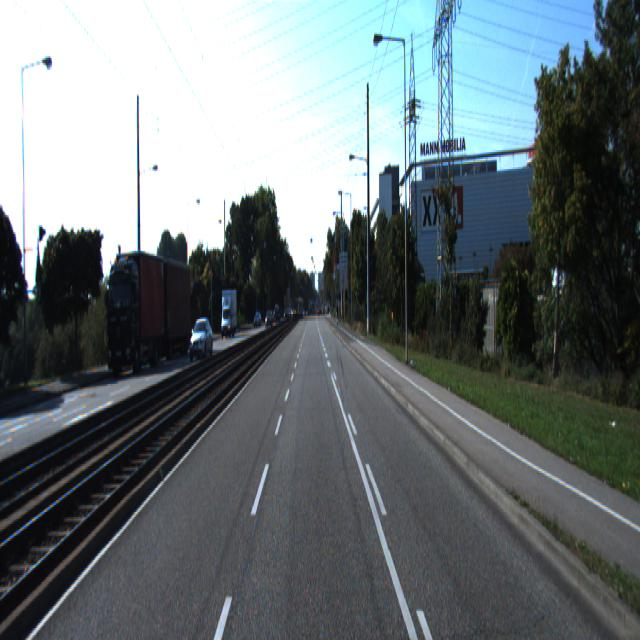Car: (103, 244, 166, 379), (147, 253, 192, 360), (188, 317, 215, 363)
